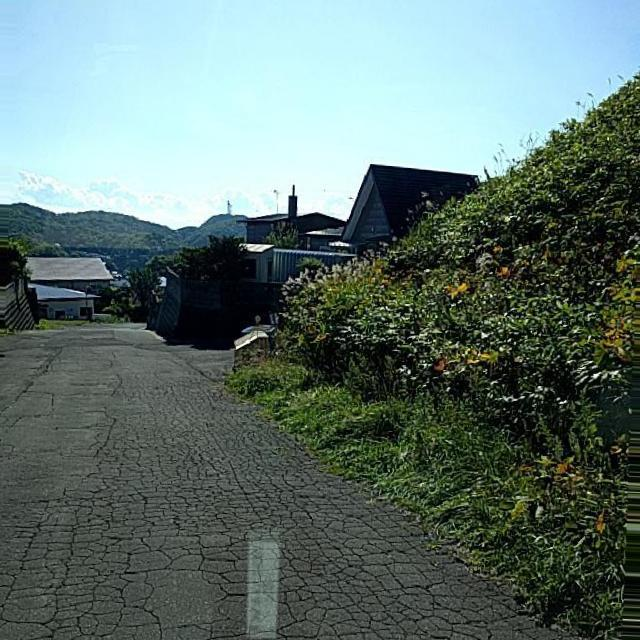Retak Buaya: (0, 380, 581, 640)
